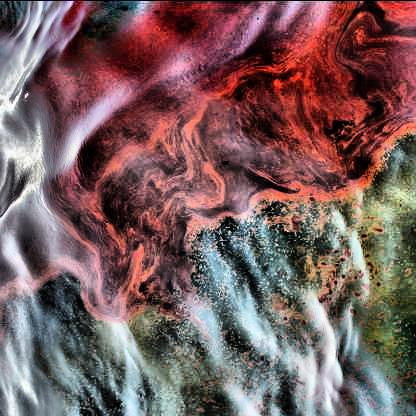truecolor: (26, 1, 416, 318)
